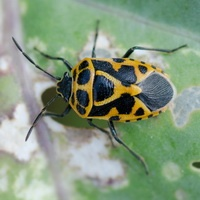insect: (12, 21, 186, 173)
